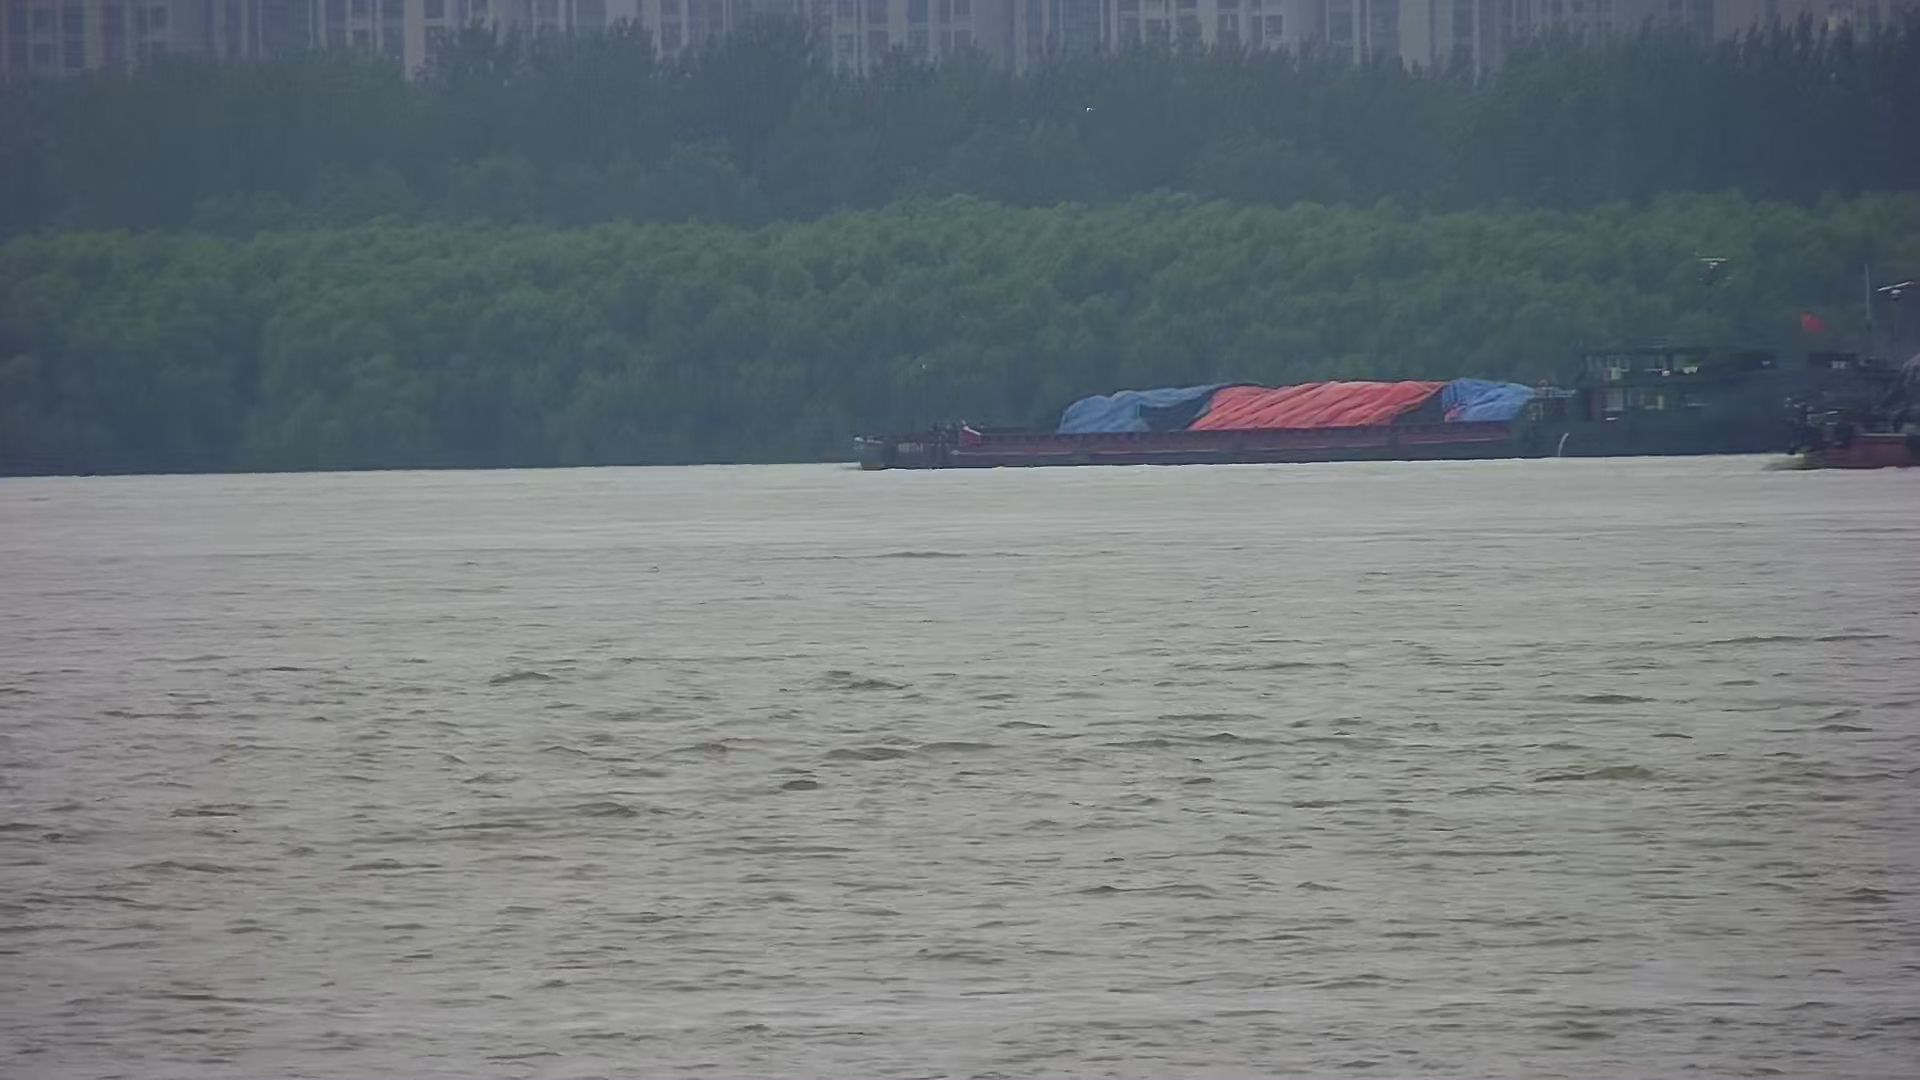ship: (848, 335, 1849, 467), (1789, 270, 1920, 465)
